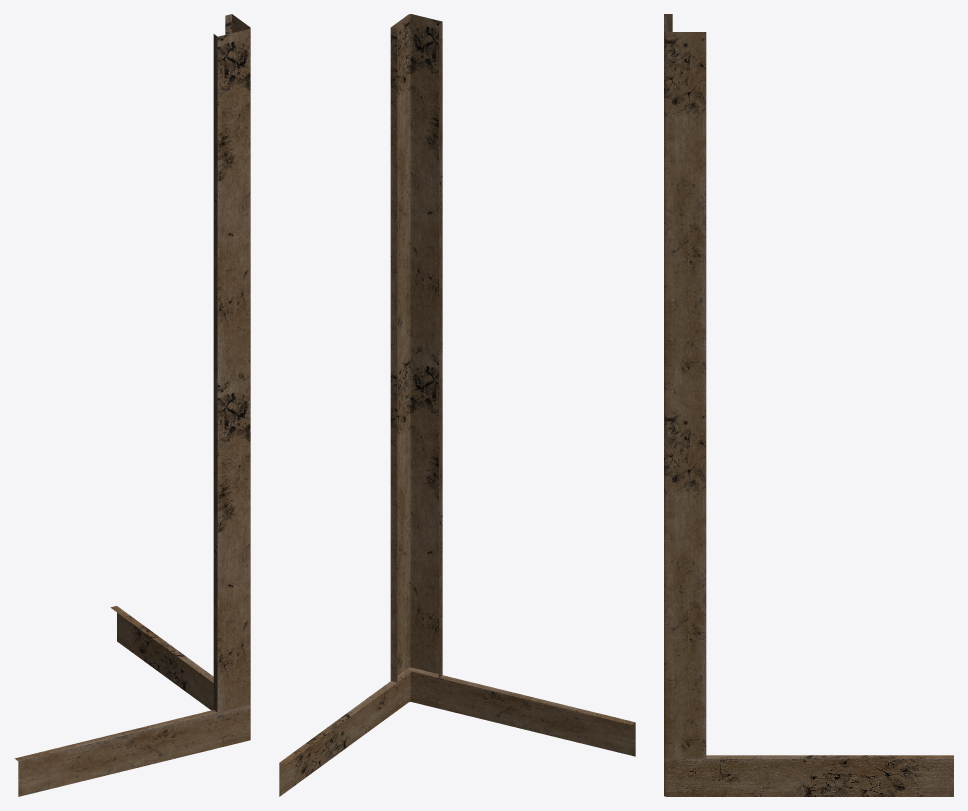
The model's file is SM_Wallbar_Wood_02.fbx.
The picture shows the model from 3 angles, left to right: view 1: azimuth 30°, elevation 25°; view 2: azimuth 150°, elevation 25°; view 3: azimuth 270°, elevation 25°; orthographic projection. The views are drawn at different scales.
Visible parts, largest first — view 1: SM_Wallbar_Wood_02; view 2: SM_Wallbar_Wood_02; view 3: SM_Wallbar_Wood_02.
Part boxes in pixels (x1,y1,x2,y2): SM_Wallbar_Wood_02: [14, 14, 250, 796]; SM_Wallbar_Wood_02: [279, 14, 635, 796]; SM_Wallbar_Wood_02: [664, 14, 953, 796].
Bounding box in the file's own units: 103 × 300 × 103.
